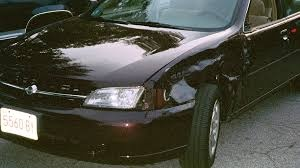Dent: (158, 37, 248, 105)
